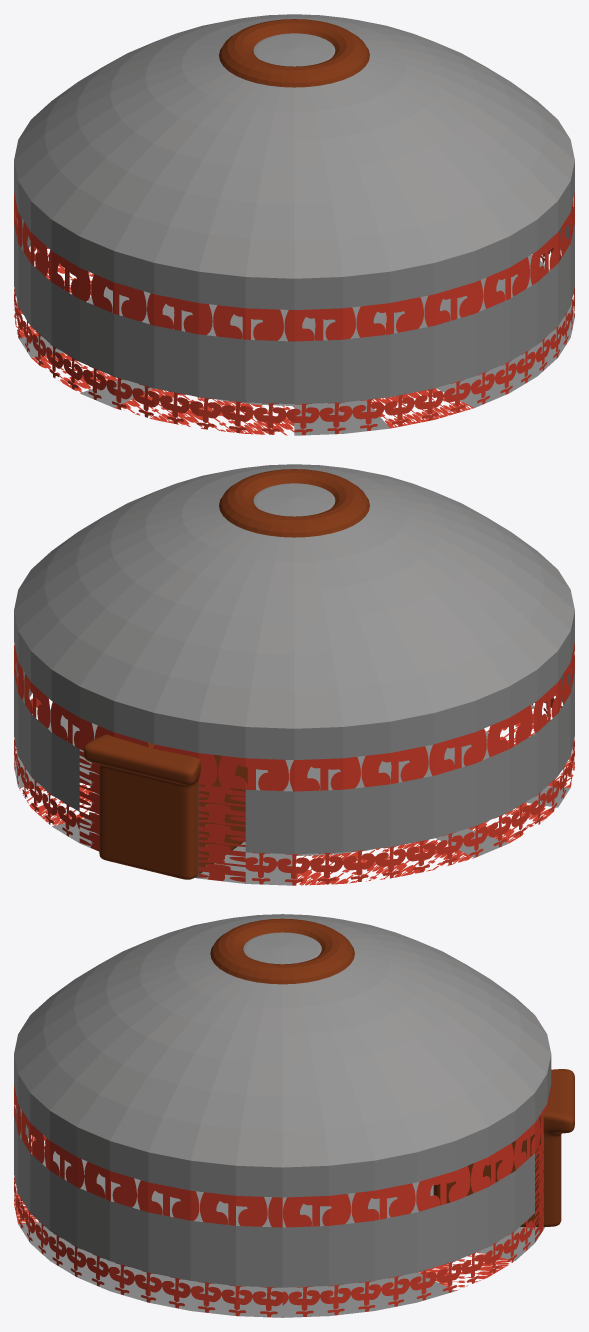
The model's file is юрета.fbx.
3 renders of one model, top to bottom at view 1: azimuth 30°, elevation 25°; view 2: azimuth 150°, elevation 25°; view 3: azimuth 270°, elevation 25°, orthographic. The views are drawn at different scales.
Visible parts, largest first — view 1: юрта; view 2: юрта; view 3: юрта.
Boxes of the visible parts, x1,y1,x2,y2 form: юрта: [14, 14, 574, 435]; юрта: [14, 464, 574, 885]; юрта: [14, 914, 574, 1317].
Bounding box in the file's own units: 200 × 107 × 209.
Materials: 6 (4 with a texture image).
